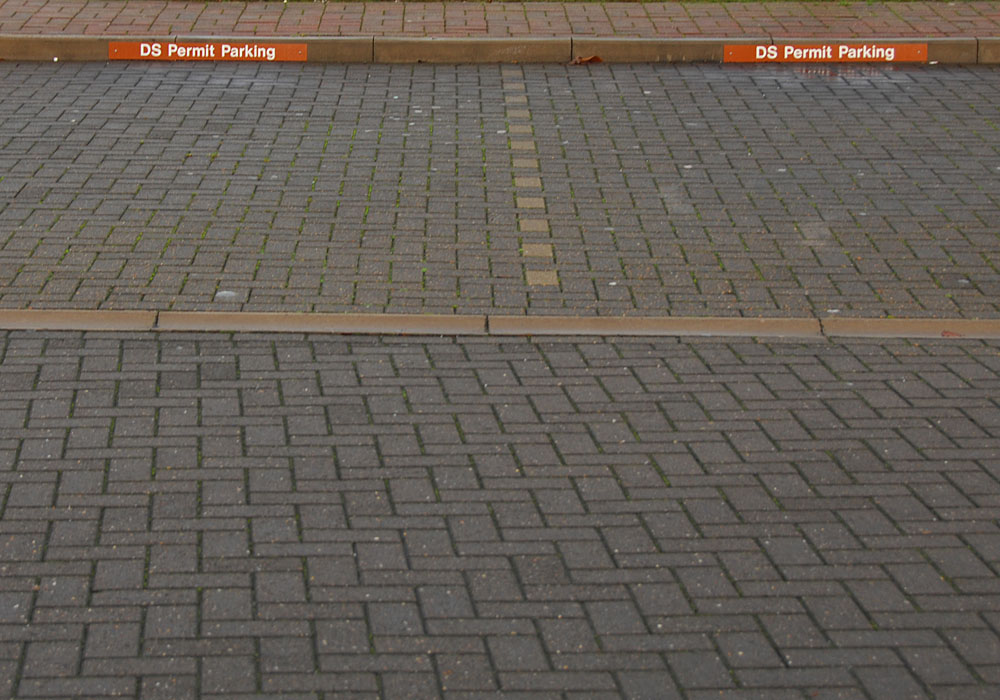empyt_space: (3, 40, 565, 307), (498, 37, 1000, 297)
